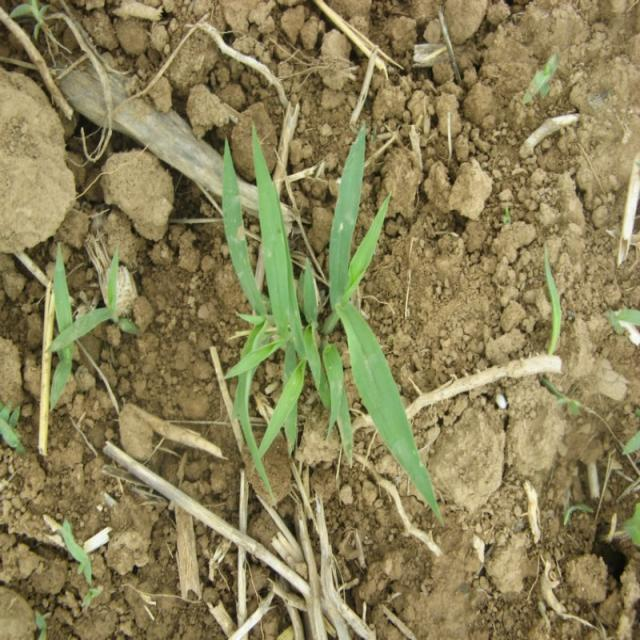bg: (223, 131, 444, 523)
